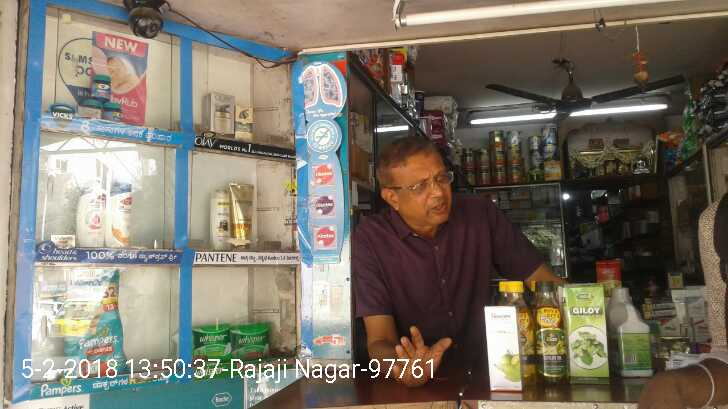beauty: (67, 170, 104, 256), (228, 179, 262, 248), (110, 176, 138, 253), (207, 186, 232, 253), (202, 91, 236, 135), (229, 102, 253, 141)
pharmacy: (52, 273, 131, 383), (230, 316, 270, 359), (194, 330, 234, 362), (86, 65, 114, 102)
